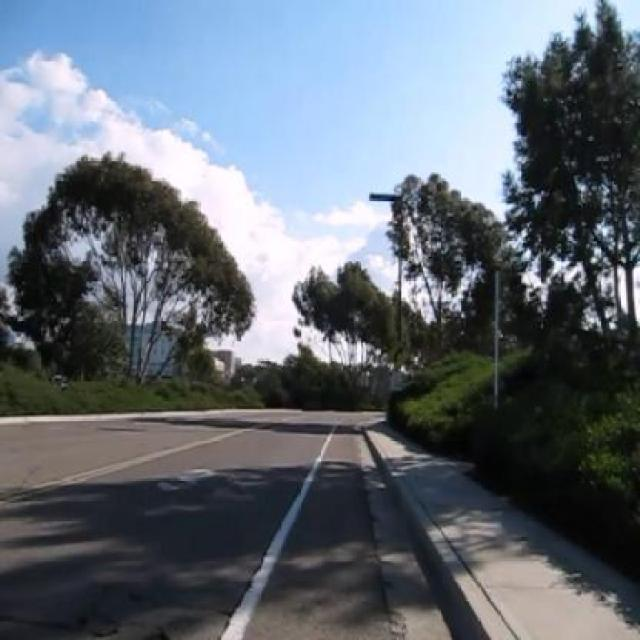speedLimit35: (391, 369, 406, 392)
